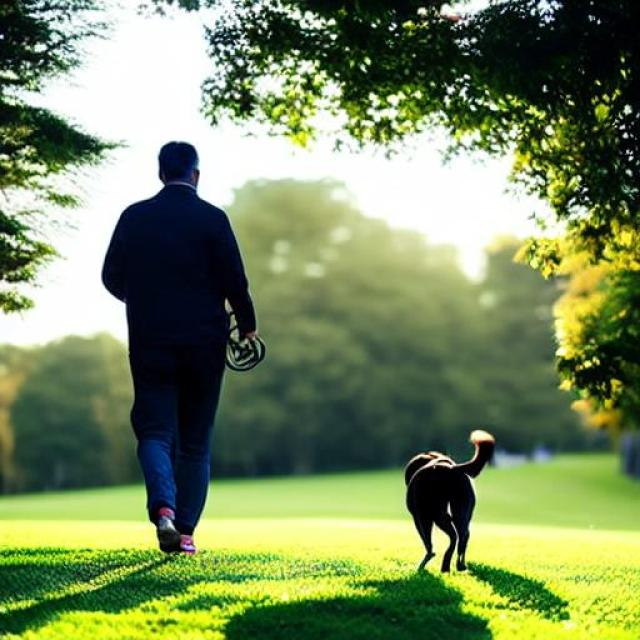Unleashed_Dog: (132, 319, 495, 573)
